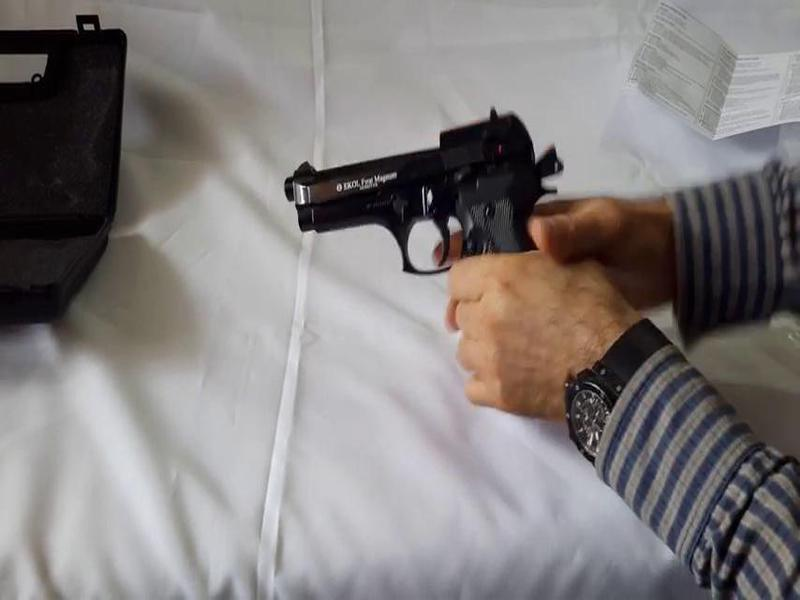Pistola: (277, 138, 539, 298)
